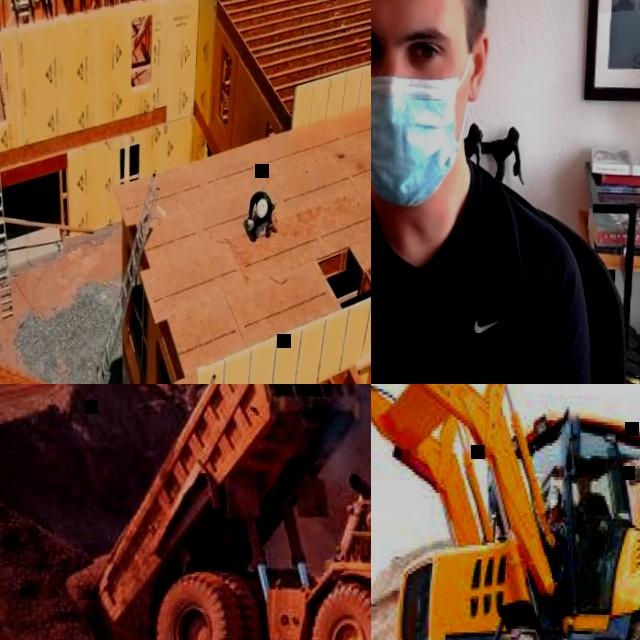Hardhat: (256, 198, 268, 219)
Mask: (371, 47, 473, 205)
NO-Hardhat: (574, 472, 592, 484)
NO-Mask: (577, 485, 591, 495)
NO-Safety Vest: (371, 164, 530, 384), (574, 494, 608, 536), (258, 192, 272, 216)
Person: (371, 0, 611, 384), (569, 470, 614, 606), (247, 191, 274, 240)
machinery: (82, 384, 371, 640), (371, 384, 640, 640)
